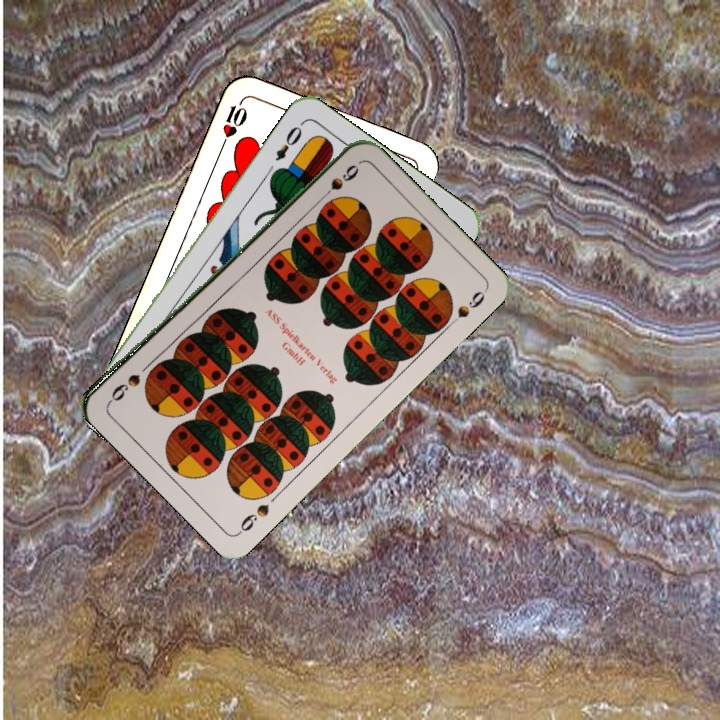EO: (271, 122, 305, 164)
H10: (217, 94, 250, 150)
S9: (314, 160, 360, 205), (234, 500, 272, 537)
